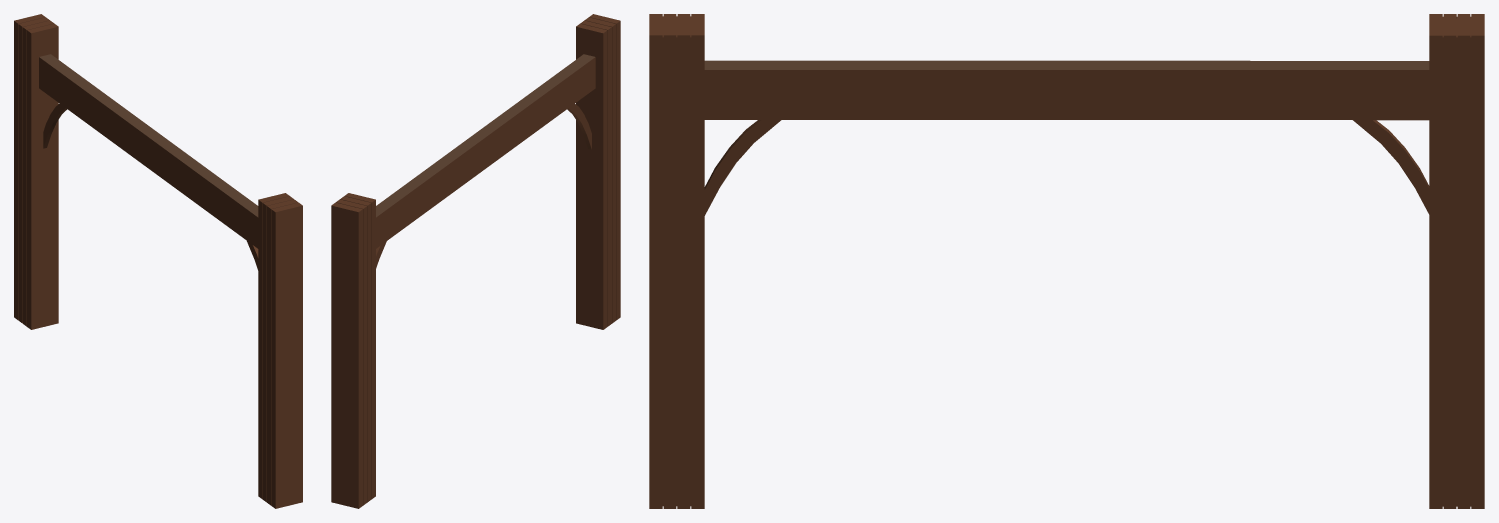
Rendered from Colonna+Trave.fbx.
3 views of the same model, side by side, from view 1: azimuth 30°, elevation 25°; view 2: azimuth 150°, elevation 25°; view 3: azimuth 270°, elevation 25° (orthographic). The views are drawn at different scales.
Parts seen in each view (by area): view 1: Colonna legno.002; view 2: Colonna legno.002; view 3: Colonna legno.002.
Part boxes in pixels (x1=…): Colonna legno.002: x1=14, y1=14, x2=302, y2=508; Colonna legno.002: x1=331, y1=14, x2=620, y2=508; Colonna legno.002: x1=649, y1=14, x2=1484, y2=508.
Size of the model in its own units: 90.24 by 926 by 1481.
